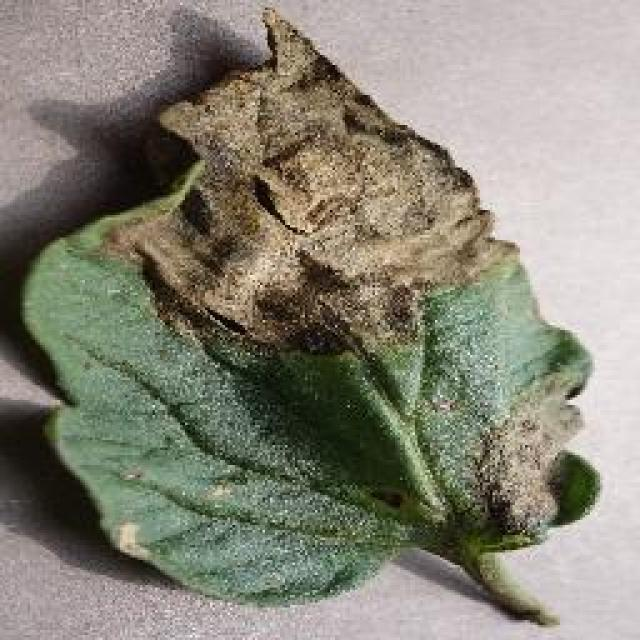Tomato Late Blight: (98, 35, 550, 605)
